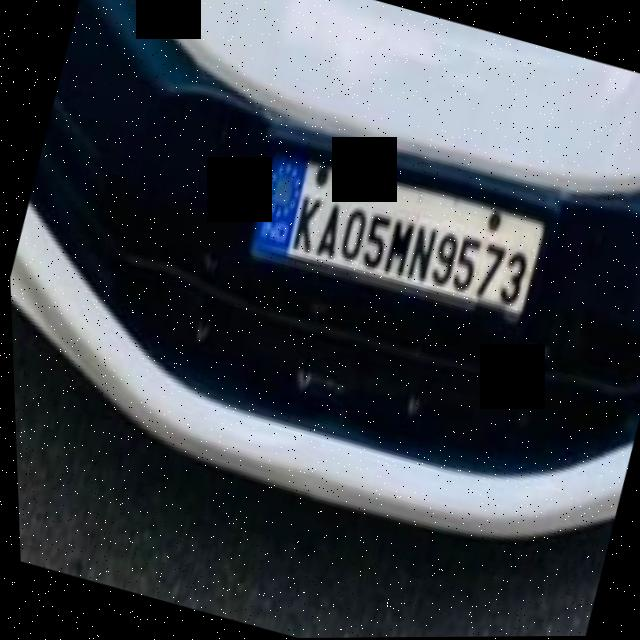0: (332, 203, 372, 268)
3: (490, 245, 534, 314)
5: (444, 225, 488, 303), (353, 207, 396, 277)
7: (466, 230, 513, 308)
9: (422, 219, 466, 293)
A: (310, 195, 348, 264)
K: (281, 183, 327, 263)
M: (375, 209, 420, 285)
N: (398, 216, 443, 292)
